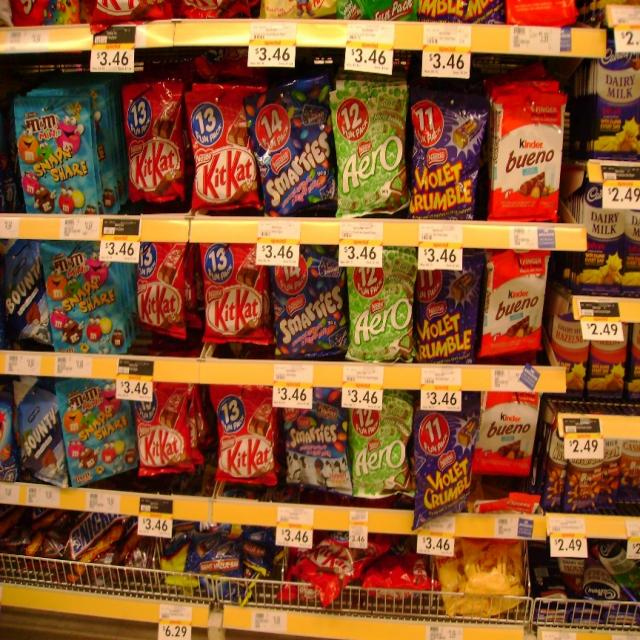q280: (190, 71, 264, 207), (124, 81, 187, 205), (216, 381, 280, 494), (193, 246, 263, 344), (131, 236, 191, 342), (138, 379, 191, 480)
